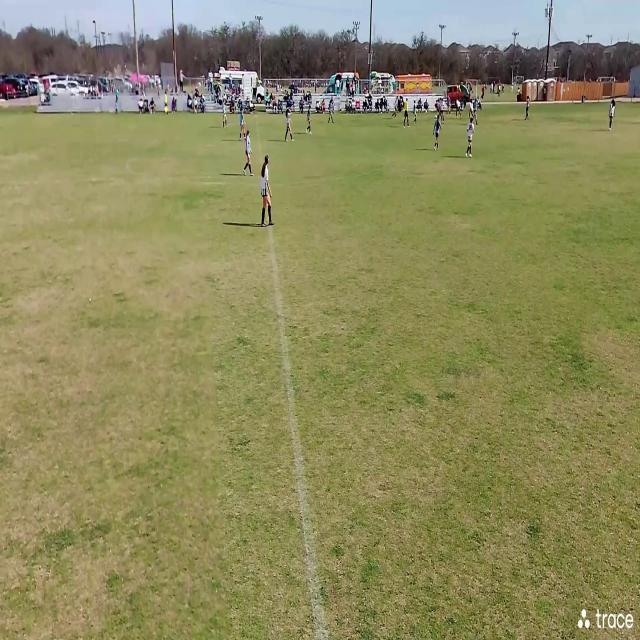Ball: (434, 115, 438, 119)
Referee: (401, 98, 409, 128), (163, 89, 170, 114)
TEAM 1: (260, 156, 276, 230), (283, 110, 294, 143), (607, 97, 615, 134), (466, 117, 473, 156), (306, 105, 312, 136), (525, 95, 532, 121), (222, 100, 228, 128), (328, 100, 335, 124), (412, 100, 418, 124), (440, 99, 446, 123), (456, 99, 462, 120), (392, 100, 398, 120), (469, 100, 473, 118)
TEAM 2: (242, 128, 255, 176), (433, 115, 440, 152), (239, 106, 245, 141), (473, 98, 479, 126), (447, 96, 452, 117)
